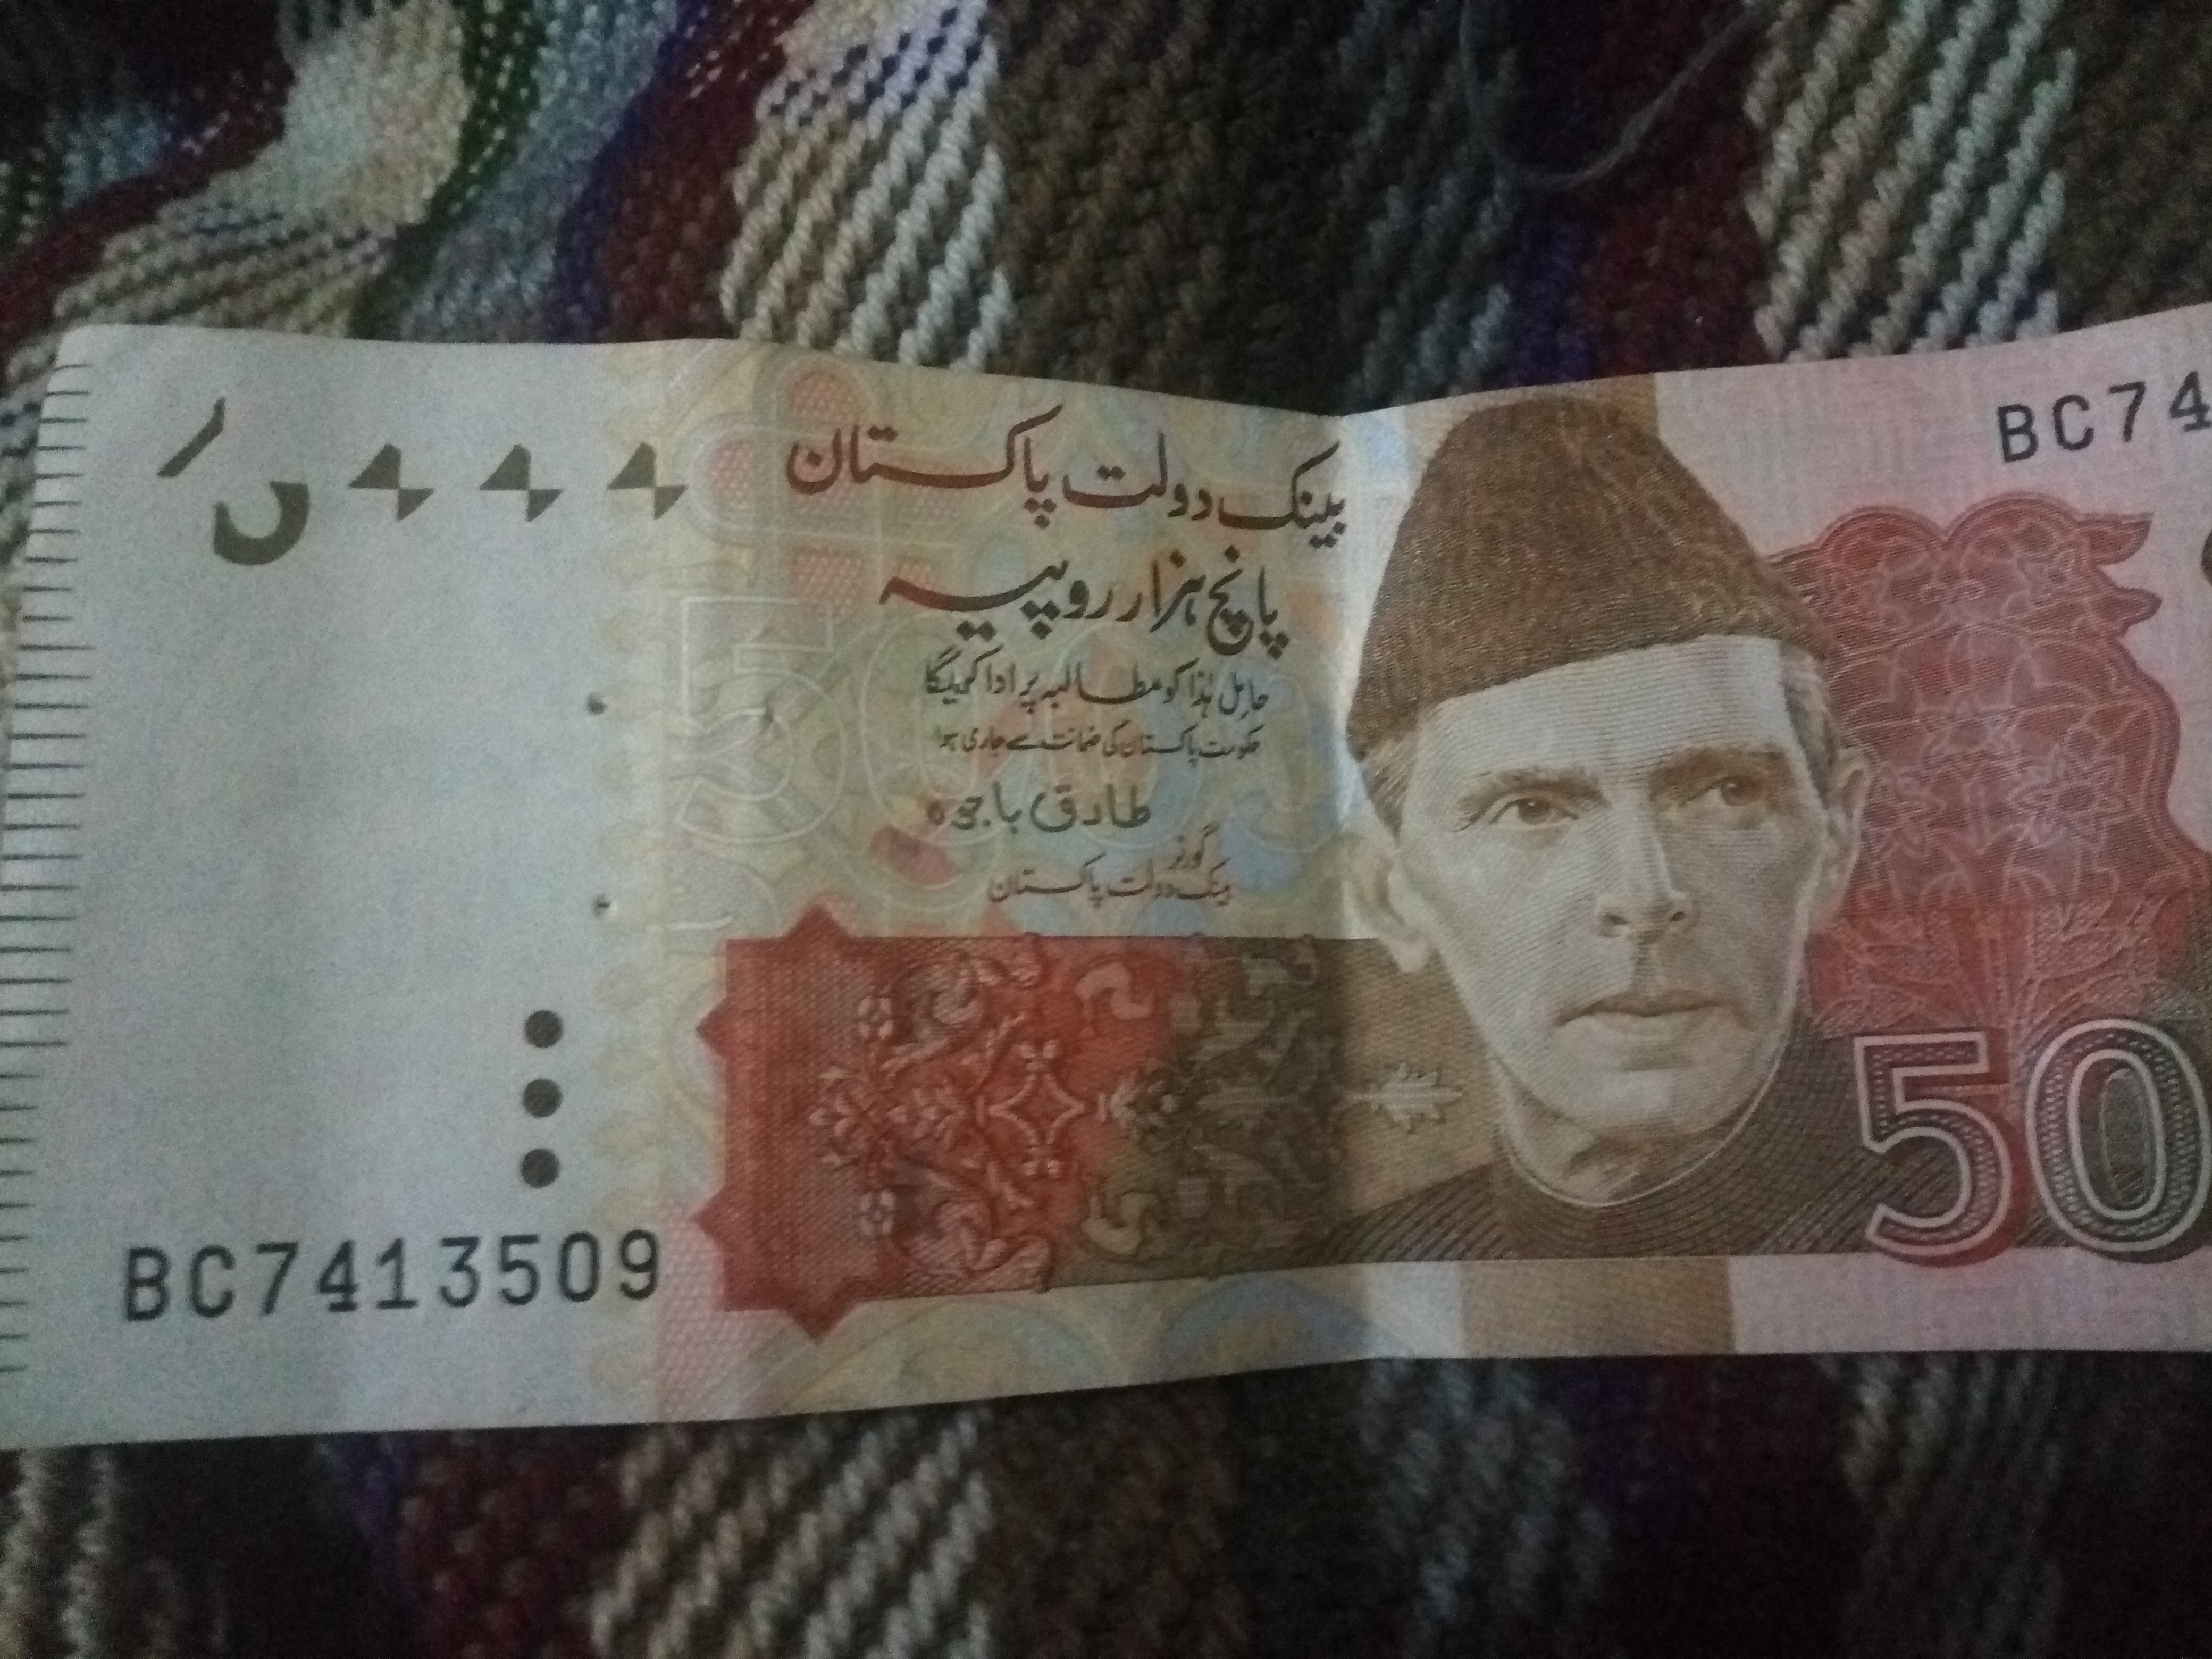5000 rupee: (23, 282, 2212, 1401)
